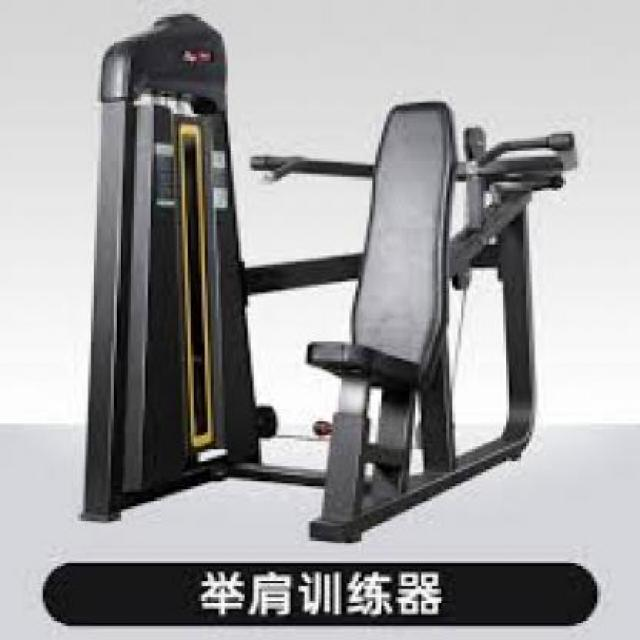shoulder press machine: (58, 3, 588, 551)
